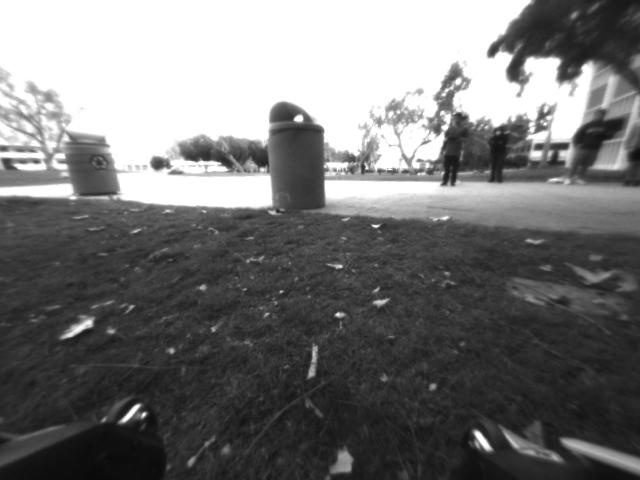trashcan: (260, 99, 333, 217)
